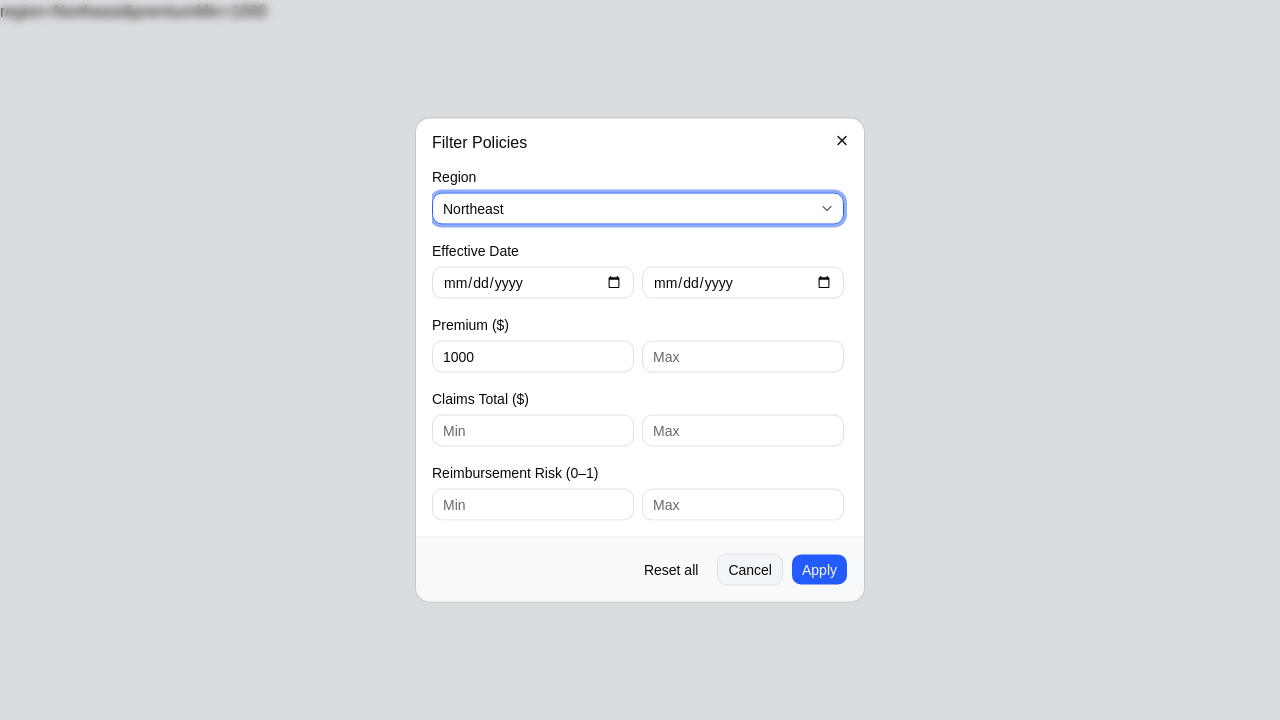
FilterModal › Reset all restores draft to initial submitted state without changing URL or closing modal
Note: Modify the draft
Replace the text in the number field named "premium minimum" with "99999" at point(533, 356), box x1=432 y1=340 x2=634 y2=372
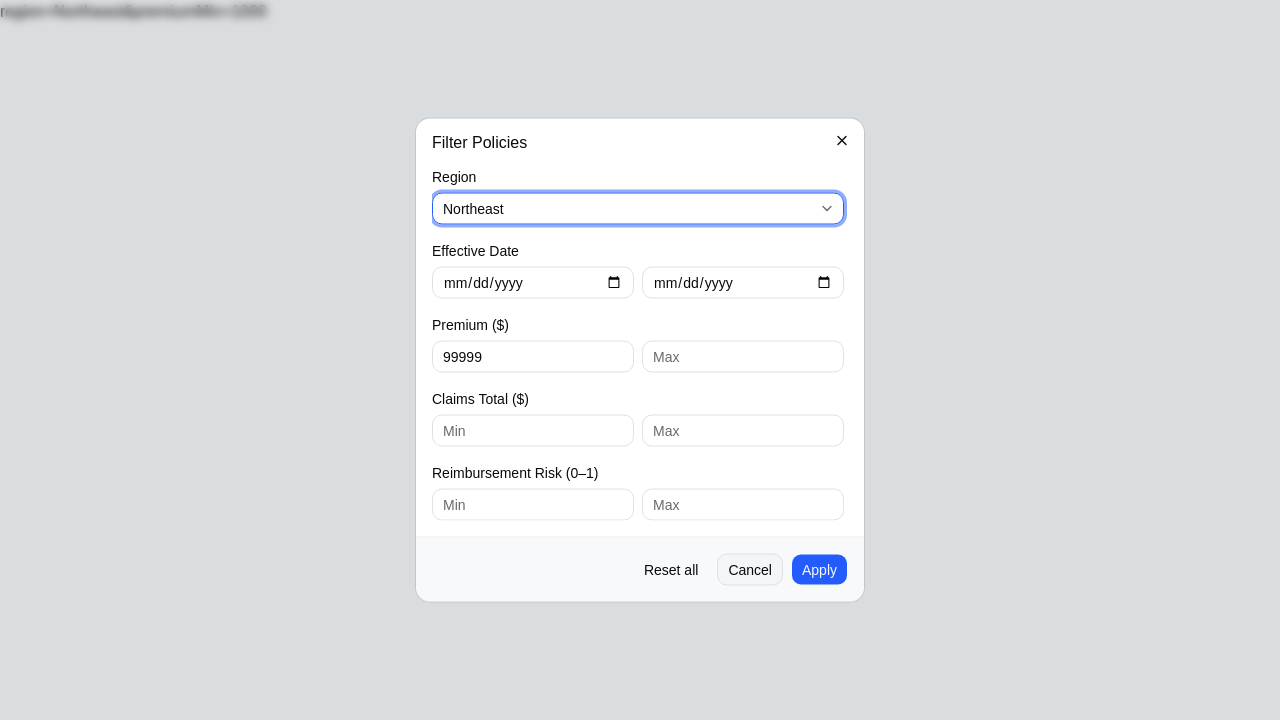
Click the button "Reset all" at point(671, 570), box x1=633 y1=554 x2=709 y2=586
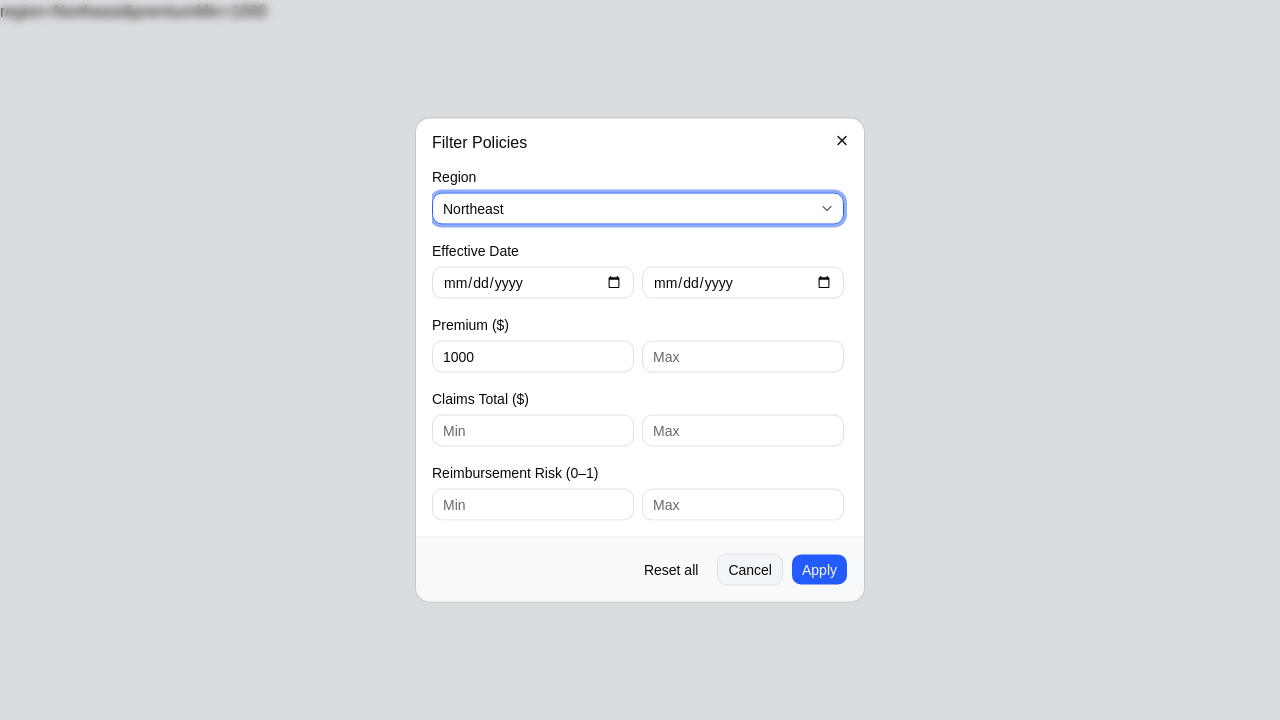
Check: the text with test id "params" shows "region=Northeast", box x1=0 y1=3 x2=267 y2=20
Check: the number field named "premium minimum" holds "1000", box x1=432 y1=340 x2=634 y2=372
